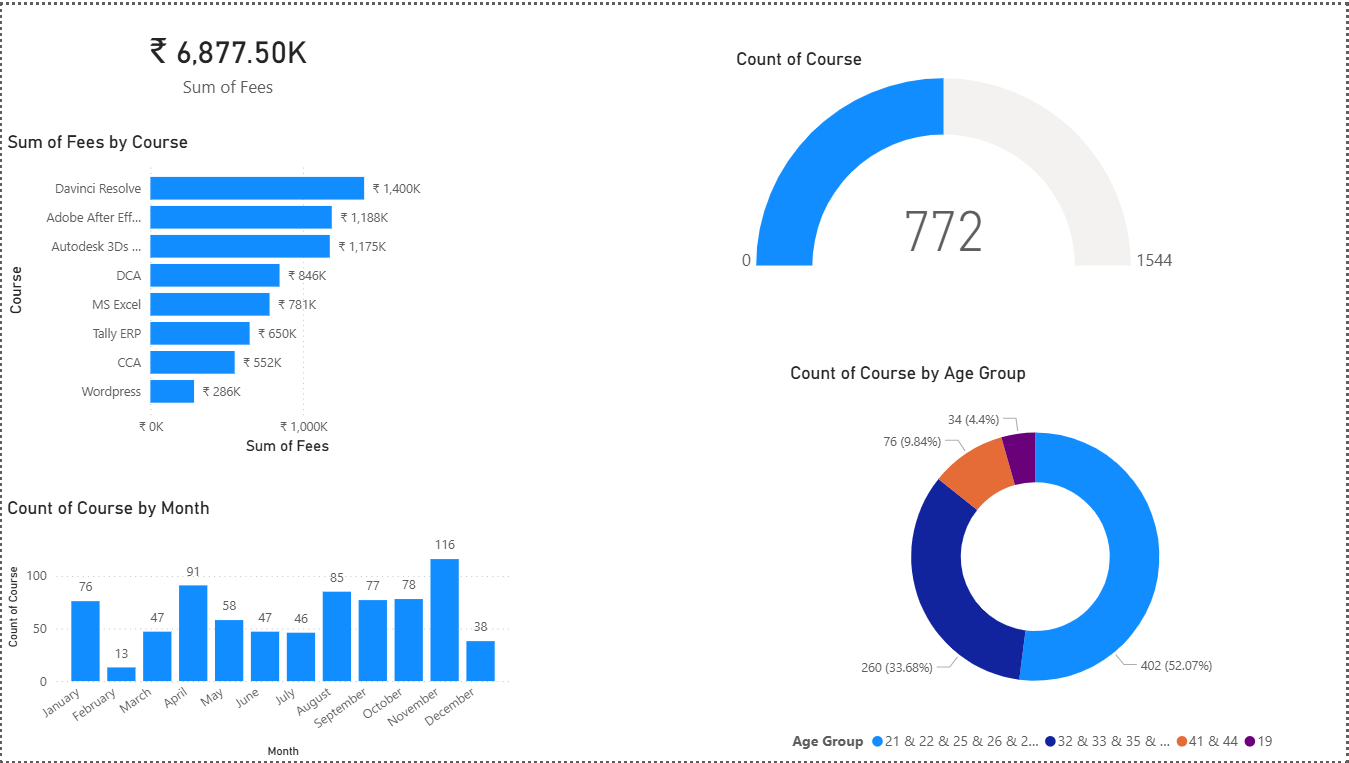

What the dashboard file says about the page in this screenshot:
{"tool":"powerbi","page":{"name":"Page 1","canvas":[1280,720],"ordinal":0},"visuals":[{"type":"clusteredColumnChart","fields":{"Category":["Student Course Details.Date of Join.Variation.Date Hierarchy.Year","Student Course Details.Date of Join.Variation.Date Hierarchy.Quarter","Student Course Details.Date of Join.Variation.Date Hierarchy.Month","Student Course Details.Date of Join.Variation.Date Hierarchy.Day"],"Y":["CountNonNull(Student Course Details.Course)"]},"box":[0,468,488,252],"z":0},{"type":"donutChart","fields":{"Y":["CountNonNull(Student Course Details.Course)"],"Category":["Student Course Details.Age Group"]},"box":[746,340,476,380],"z":1000},{"type":"clusteredBarChart","fields":{"Category":["Student Course Details.Course"],"Y":["Sum(Student Course Details.Fees)"]},"box":[0,120,430,312],"z":2000},{"type":"card","fields":{"Values":["Sum(Student Course Details.Fees)"]},"box":[0,11,429.5,83.7],"z":3000},{"type":"gauge","fields":{"Y":["CountNonNull(Student Course Details.Course)"]},"box":[694,42,430,220],"z":4000}]}

Visuals, with their boxes in screenshot pixels (x1, y1, x2, y2), scaled from the page's 1280x720 canvas onto the 1349x763 screenshot:
clusteredColumnChart - Student Course Details.Date of Join.Variation.Date Hierarchy.Year x Student Course Details.Date of Join.Variation.Date Hierarchy.Quarter: {"left": 0, "top": 496, "right": 514, "bottom": 762}
donutChart - CountNonNull(Student Course Details.Course) x Student Course Details.Age Group: {"left": 786, "top": 360, "right": 1288, "bottom": 762}
clusteredBarChart - Student Course Details.Course x Sum(Student Course Details.Fees): {"left": 0, "top": 127, "right": 453, "bottom": 458}
card - Sum(Student Course Details.Fees): {"left": 0, "top": 12, "right": 453, "bottom": 100}
gauge - CountNonNull(Student Course Details.Course): {"left": 731, "top": 45, "right": 1185, "bottom": 278}
